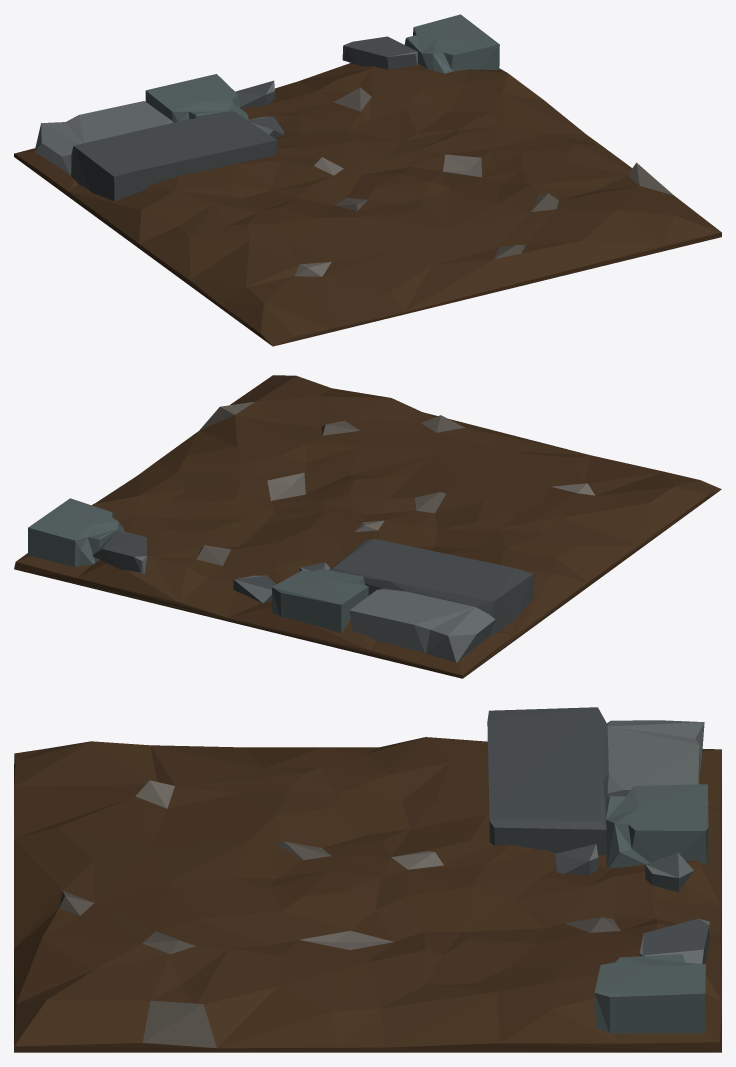
Rendered from MDungeon_SoilGroundTile_Stone_02.FBX.
3 views of the same model, one above another, from view 1: azimuth 30°, elevation 25°; view 2: azimuth 150°, elevation 25°; view 3: azimuth 270°, elevation 25° (orthographic). The views are drawn at different scales.
Parts seen in each view (by area): view 1: MDungeon_SoilGroundTile_Stone_02_LOD0; view 2: MDungeon_SoilGroundTile_Stone_02_LOD0; view 3: MDungeon_SoilGroundTile_Stone_02_LOD0.
Part boxes in pixels (left/top/right/bottom): MDungeon_SoilGroundTile_Stone_02_LOD0: left=14, top=14, right=721, bottom=346; MDungeon_SoilGroundTile_Stone_02_LOD0: left=14, top=375, right=721, bottom=678; MDungeon_SoilGroundTile_Stone_02_LOD0: left=14, top=707, right=721, bottom=1052.
Size of what is drawn, in the model's own units: 6.27 by 0.5453 by 6.27.
